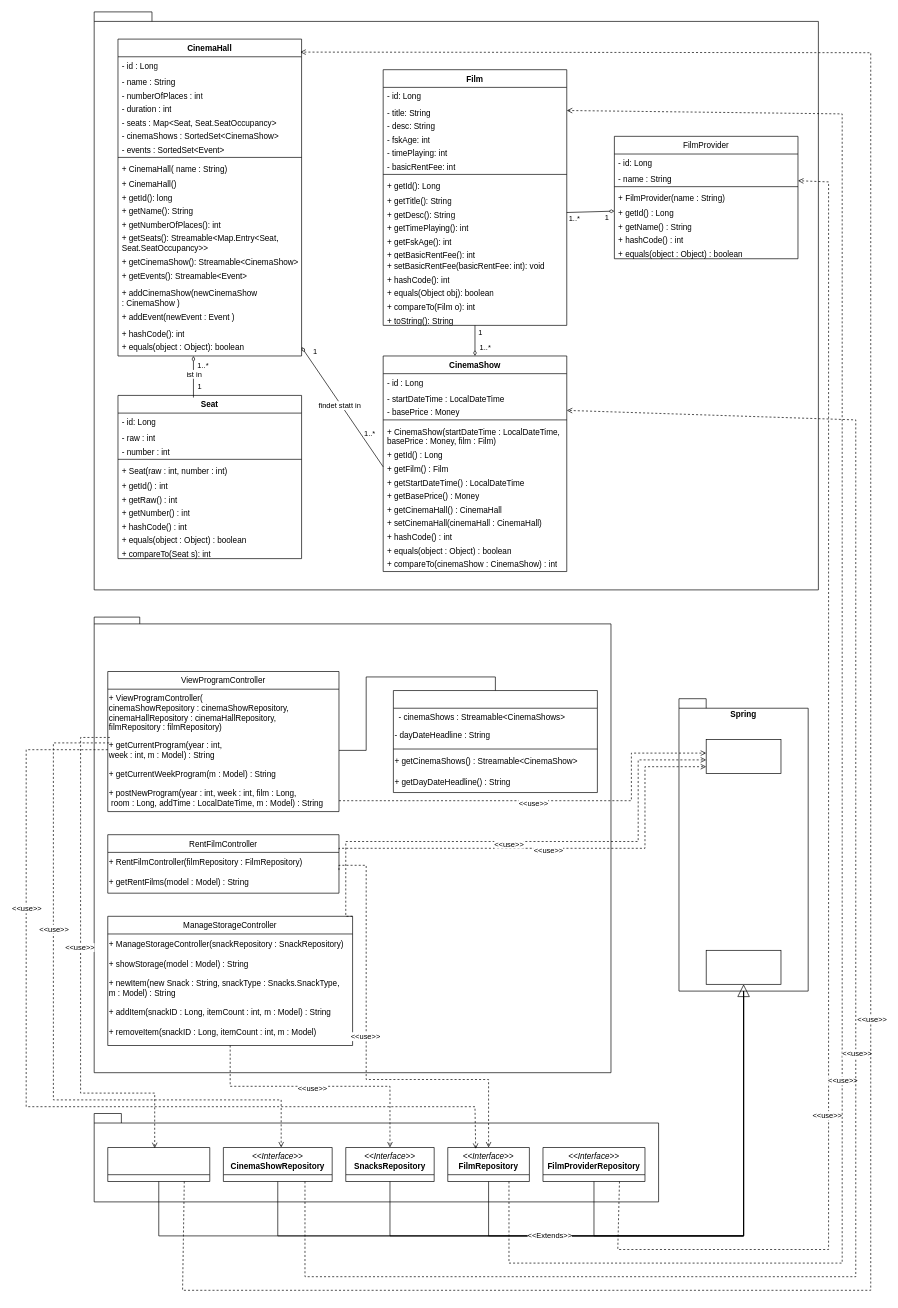
Image size: 898x1308. Some labels were removed from this diagram. The box of each missing label's shape, as (x1, y1, x2, y2) in pixels:
<<Interface>> CinemaHallRepository: (107, 1147, 210, 1182)
CinemaShowDayEntry: (393, 690, 597, 793)
CrudRepository: (706, 950, 781, 984)
de.ufo.cinemasystem.controller: (94, 616, 611, 1073)
de.ufo.cinemasystem.models: (94, 11, 818, 590)
de.ufo.cinemasystem.repository: (94, 1113, 659, 1202)
Model: (706, 739, 781, 774)
